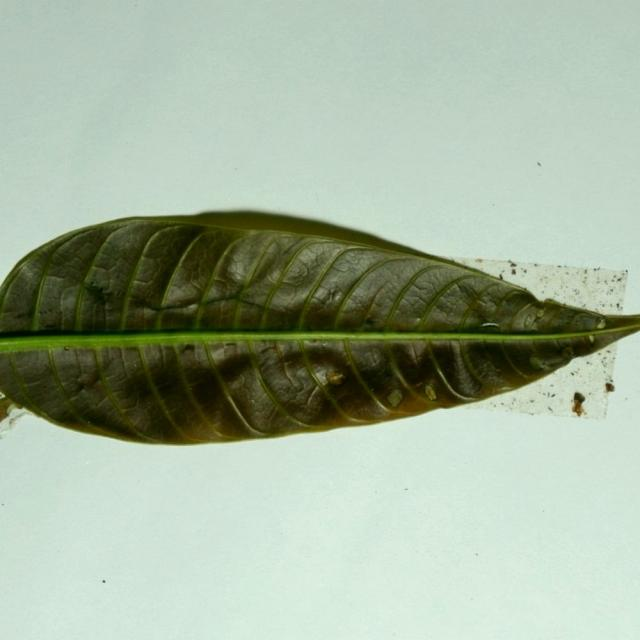Anthracnose: (542, 298, 608, 326), (307, 363, 346, 393), (79, 279, 111, 304), (1, 398, 22, 429), (466, 297, 493, 317), (325, 287, 342, 303), (528, 355, 546, 370), (573, 395, 586, 415), (388, 391, 404, 407), (425, 383, 437, 401), (562, 346, 575, 359), (363, 313, 376, 326), (588, 335, 596, 345)
Mango: (0, 212, 639, 448)
